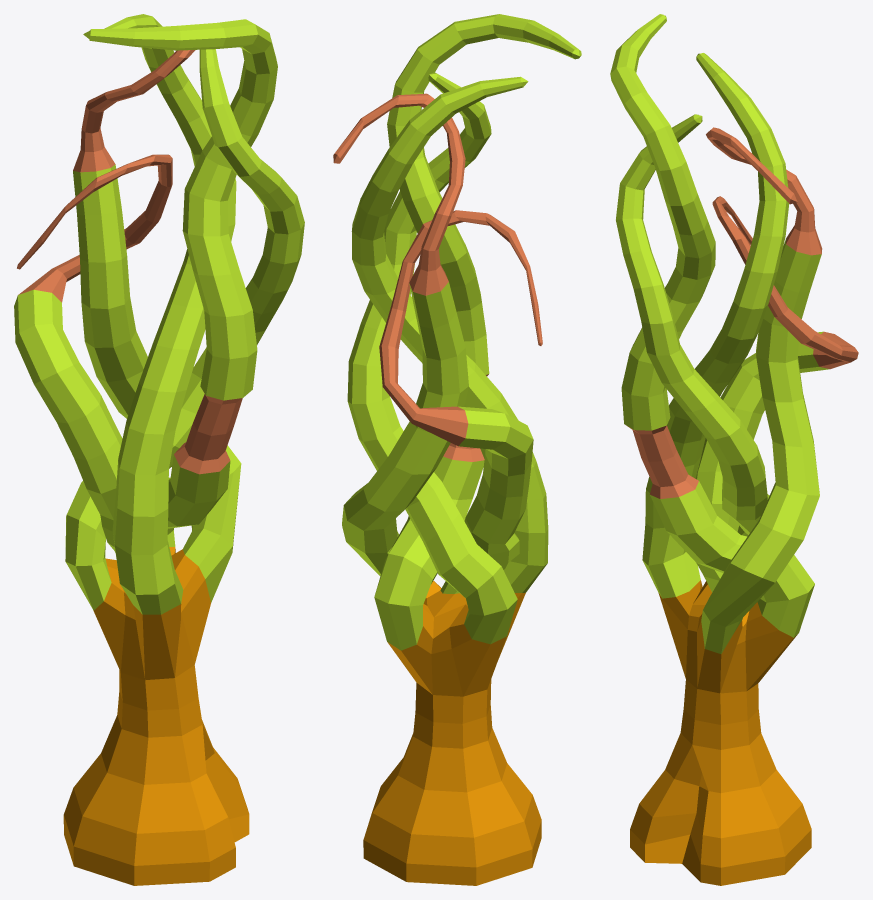
File: Tree_17_Var_05.fbx
3 renders of one model, left to right at view 1: azimuth 30°, elevation 25°; view 2: azimuth 150°, elevation 25°; view 3: azimuth 270°, elevation 25°, orthographic. The views are drawn at different scales.
Parts seen in each view (by area): view 1: Tree_17_Var_05; view 2: Tree_17_Var_05; view 3: Tree_17_Var_05.
Part boxes in pixels (x1,y1,x2,y2): Tree_17_Var_05: (14,14,304,885); Tree_17_Var_05: (333,14,581,885); Tree_17_Var_05: (610,14,858,885).
Bounding box in the file's own units: 1.14 × 3.99 × 1.1.
